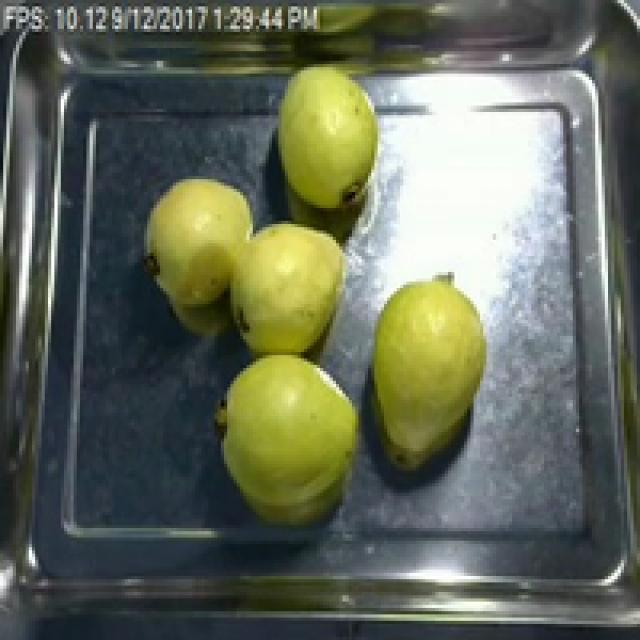Fruit: (211, 346, 371, 534), (362, 269, 496, 480), (221, 211, 355, 365), (266, 61, 390, 218), (141, 170, 262, 316)
